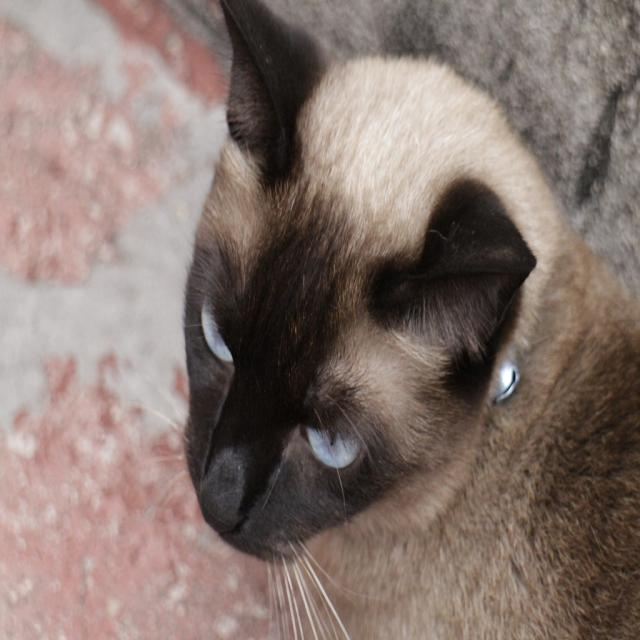Cat: (120, 0, 640, 639)
